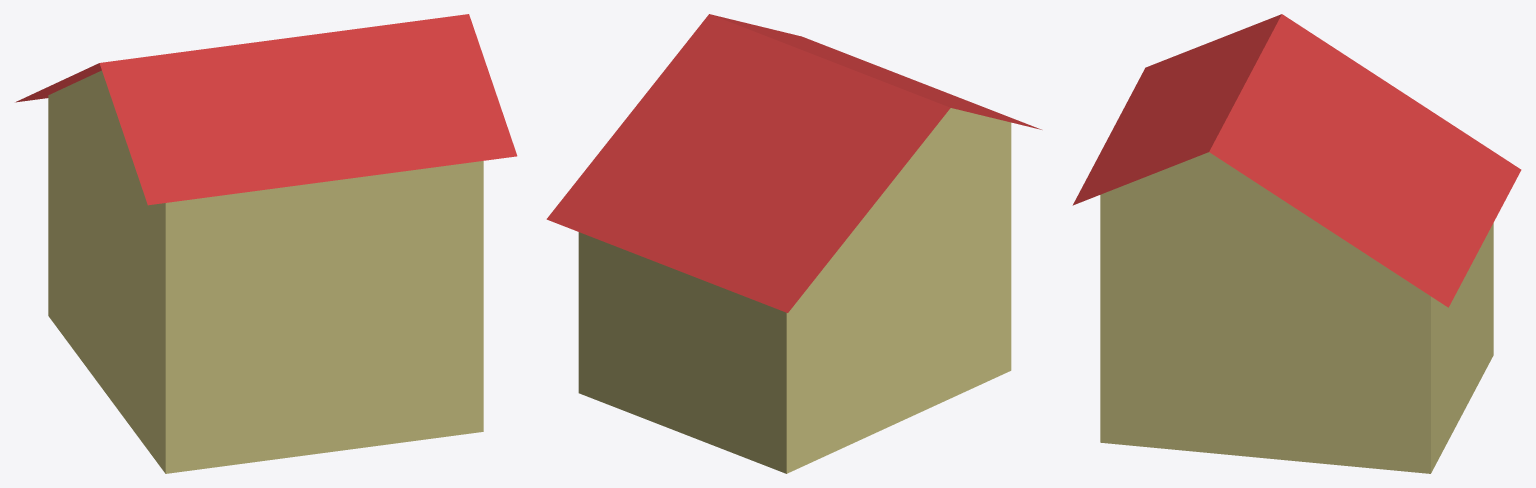
The picture shows the model from 3 angles, left to right: view 1: azimuth 30°, elevation 25°; view 2: azimuth 150°, elevation 25°; view 3: azimuth 270°, elevation 25°; orthographic projection. The views are drawn at different scales.
Size of the model in its own units: 13.21 by 14.45 by 11.04.
